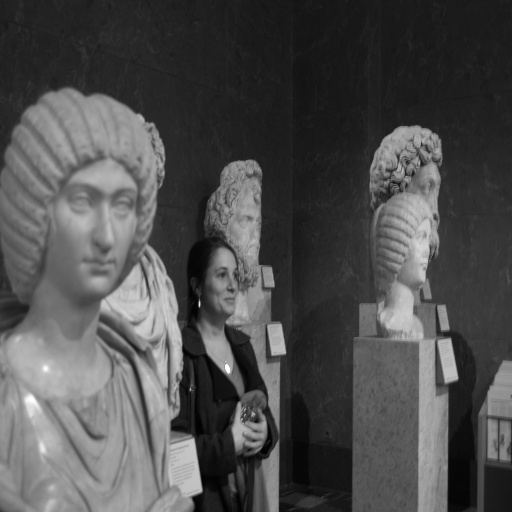hand: (146, 483, 196, 511), (243, 406, 268, 459)
